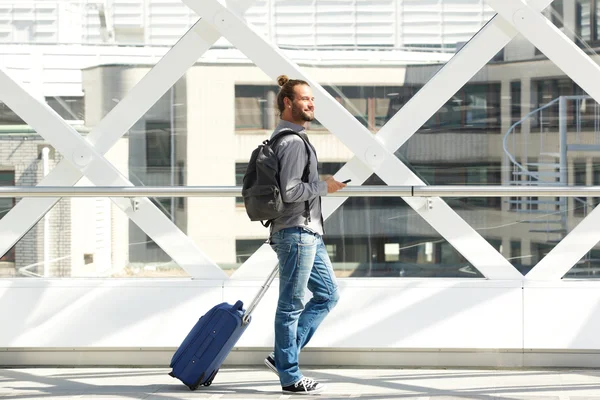person: (240, 73, 350, 395)
